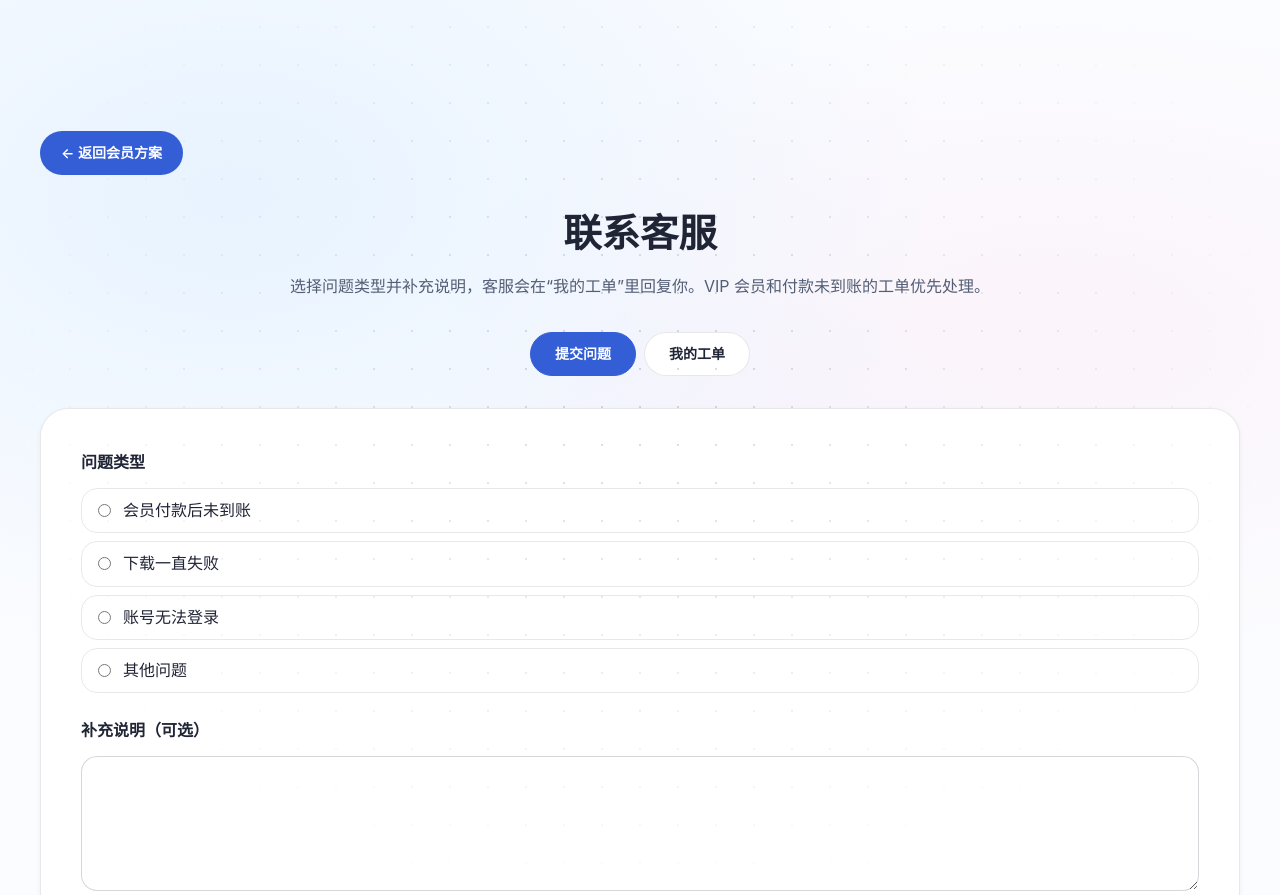
Test: SupportScene › explains when there is no order to appeal and keeps submit disabled
The width and height of the screenshot is (1280, 895).
Click the radio button labelled "会员付款后未到账" at [104, 511], box [98, 504, 111, 517]
(page scrolled)
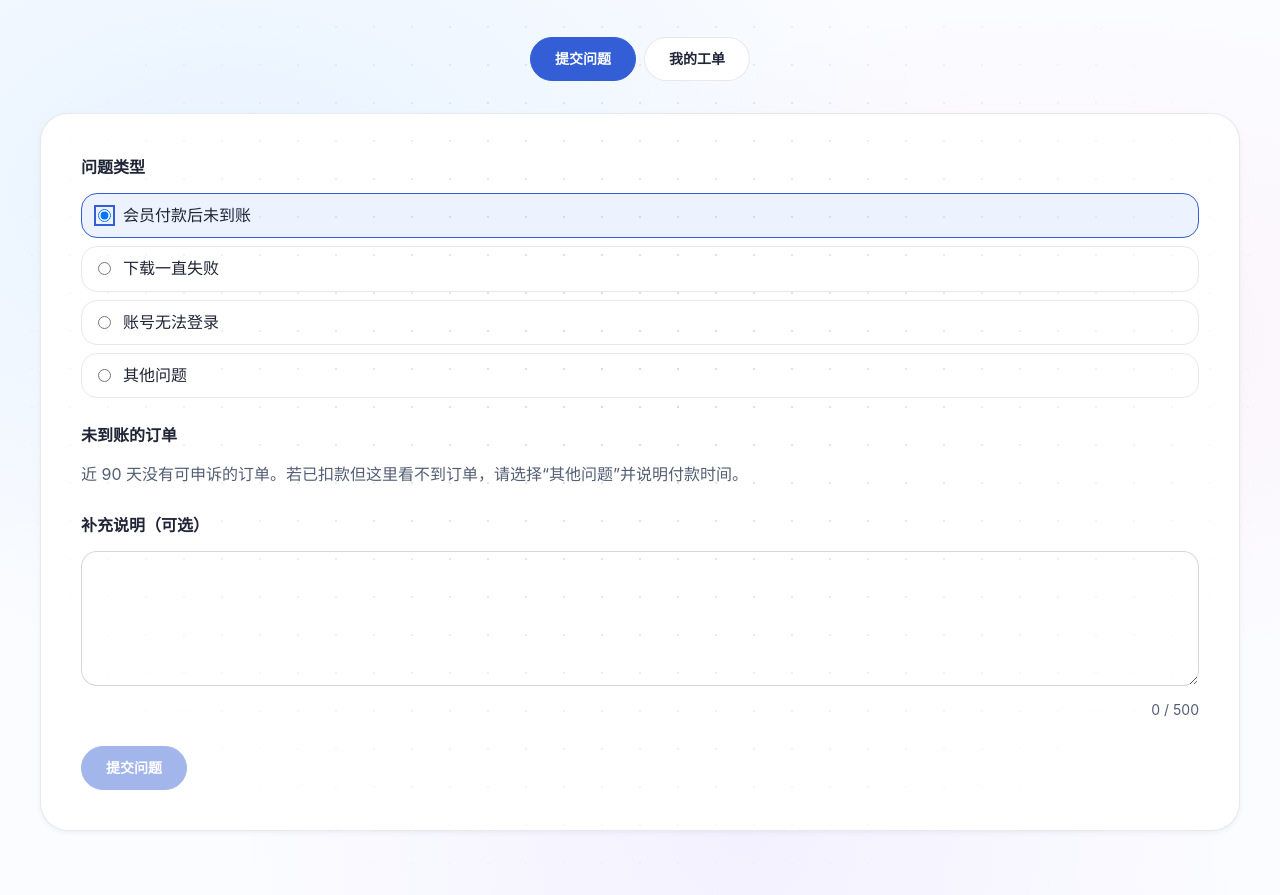
Check: the button "提交问题" is disabled, box [81, 746, 187, 790]
Check: the text "近 90 天没有可申诉的订单。若已扣款但这里看不到订单，请选择“其他问题”并说明付款时间。" is shown, box [81, 464, 748, 484]
